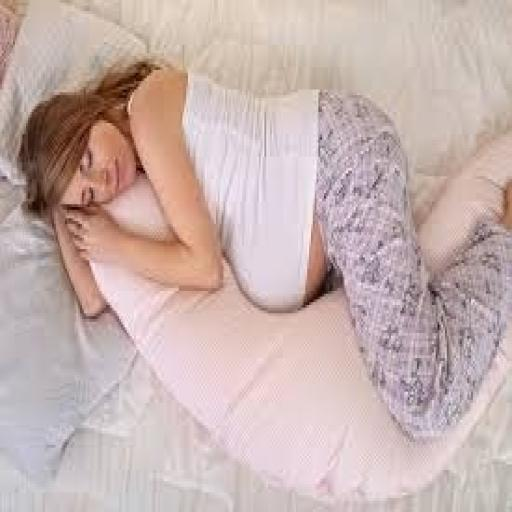sleeping: (17, 50, 510, 442)
